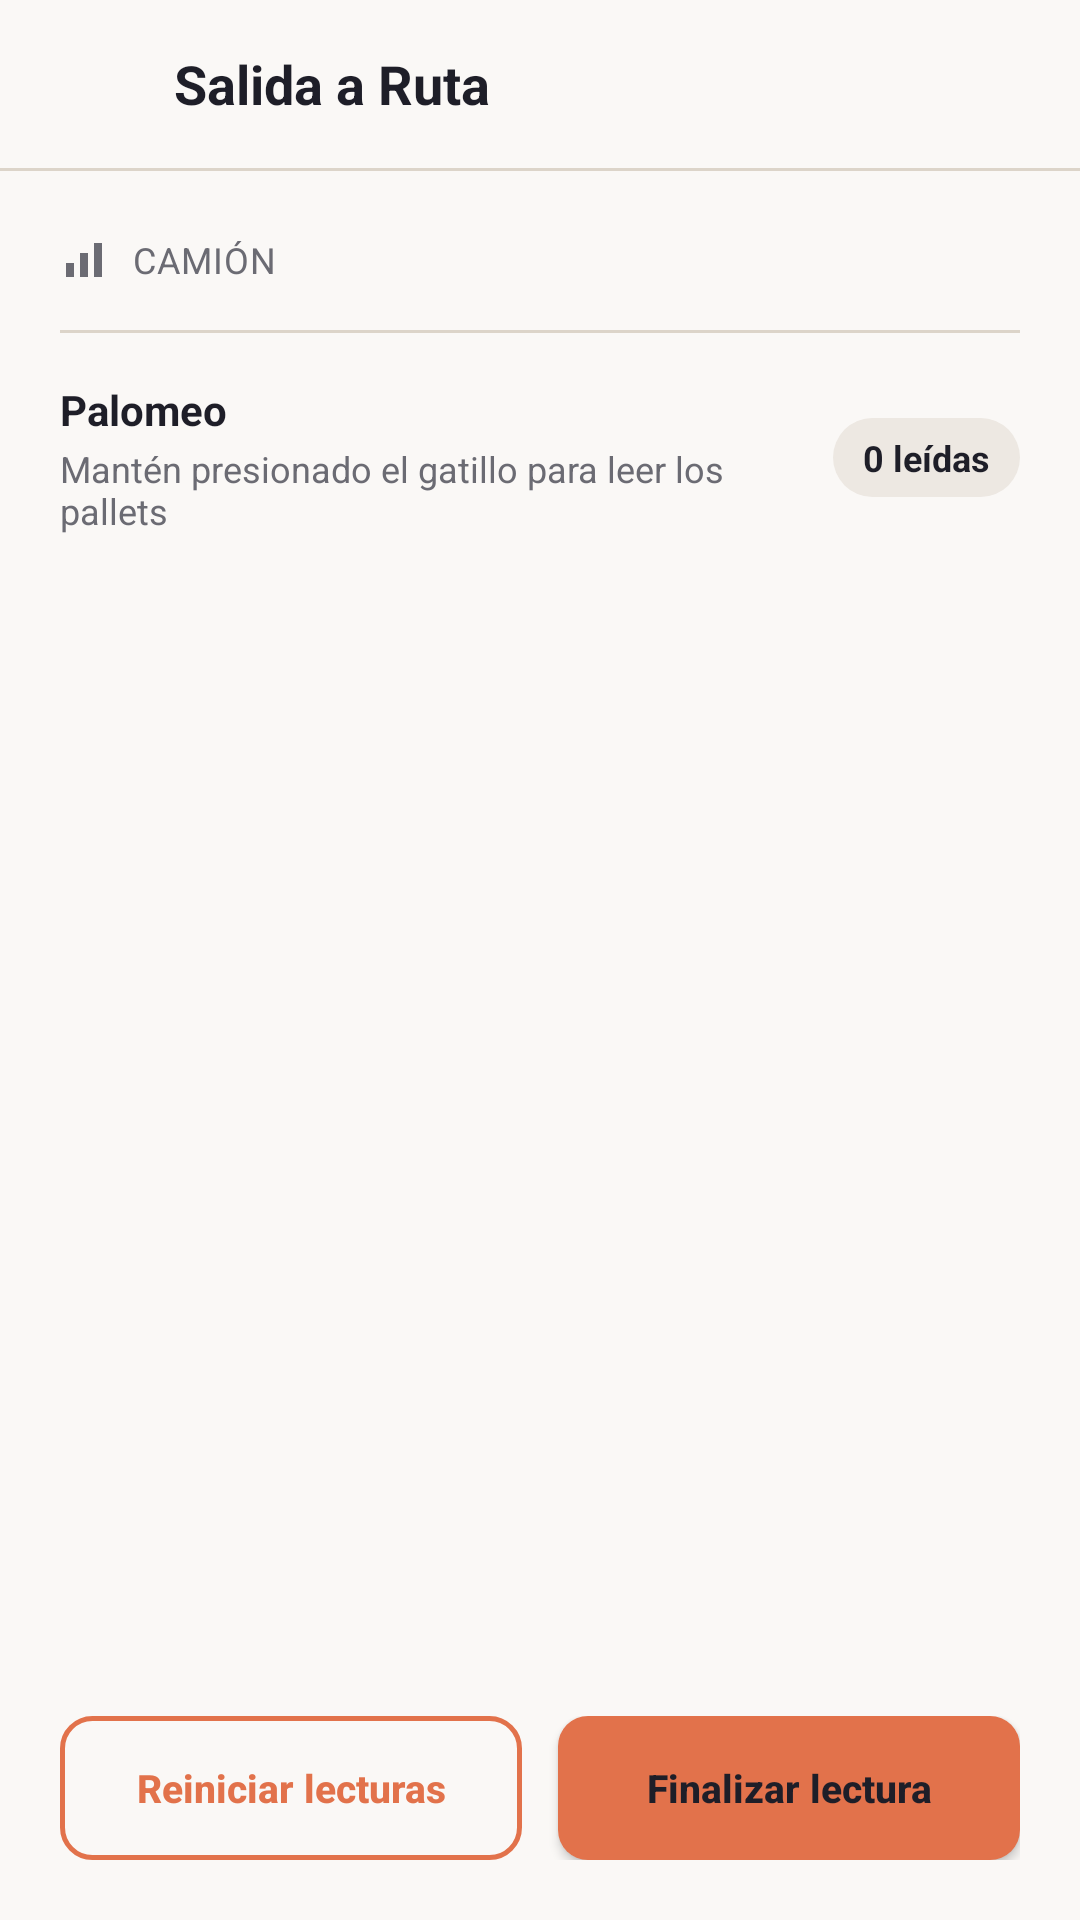

Named icons in this screenshot (1080px×1920px) and their bounding boxes, (x1, y1, x2, y2):
signal: (66, 243, 102, 277)
